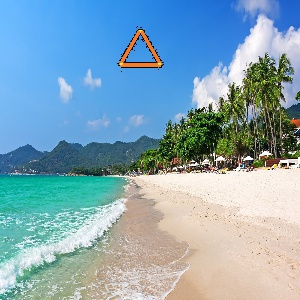triangle: (115, 25, 165, 69)
